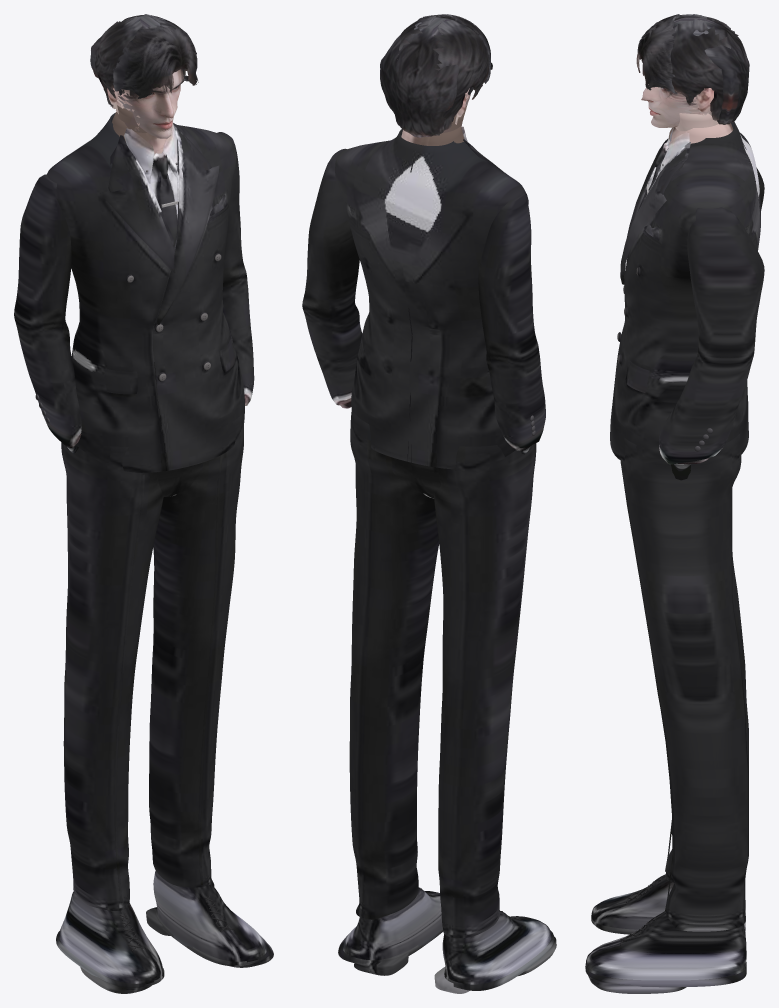
File: passer-07.glb
3 renders of one model, left to right at view 1: azimuth 30°, elevation 25°; view 2: azimuth 150°, elevation 25°; view 3: azimuth 270°, elevation 25°, orthographic.
Visible parts, largest first — view 1: 掐腰双排扣上衣, 右裤管 · 膝折与微收脚口, 左裤管 · 膝折与微收脚口, 角色右 · 两片式合体袖, 右脚 · 系带牛津鞋面, 左脚 · 系带牛津鞋面, 角色左 · 交叠戗驳领, 角色左 · 两片式合体袖, 额前与鬓发 · 原画边界体积, 角色右 · 戗驳领与下翻线, 肖像头面 · 连续眼眶唇环, 右侧鬓发至后枕 · 轮廓与耳部开口 (+10 smaller); view 2: 掐腰双排扣上衣, 右裤管 · 膝折与微收脚口, 左裤管 · 膝折与微收脚口, 角色右 · 两片式合体袖, 角色左 · 两片式合体袖, 后脑及后发 · 闭合体积, 右脚 · 系带牛津鞋面, 左脚 · 系带牛津鞋面, 右侧鬓发至后枕 · 轮廓与耳部开口, 西裤腰臀与裆桥, 右鞋 · 全长沿条, 白色细斜纹衬衣 (+1 smaller); view 3: 左裤管 · 膝折与微收脚口, 掐腰双排扣上衣, 角色左 · 两片式合体袖, 左脚 · 系带牛津鞋面, 左侧鬓发至后枕 · 轮廓与耳部开口, 后脑及后发 · 闭合体积, 右脚 · 系带牛津鞋面, 角色左 · 交叠戗驳领, 额前与鬓发 · 原画边界体积, 肖像头面 · 连续眼眶唇环, 左鞋 · 全长沿条, 右裤管 · 膝折与微收脚口 (+6 smaller).
Part boxes in pixels (left/top/right/bottom): 掐腰双排扣上衣: left=47, top=113, right=244, bottom=472; 右裤管 · 膝折与微收脚口: left=61, top=442, right=163, bottom=910; 左裤管 · 膝折与微收脚口: left=149, top=413, right=243, bottom=887; 角色右 · 两片式合体袖: left=14, top=174, right=81, bottom=447; 右脚 · 系带牛津鞋面: left=59, top=891, right=162, bottom=984; 左脚 · 系带牛津鞋面: left=153, top=871, right=267, bottom=962; 角色左 · 交叠戗驳领: left=156, top=130, right=219, bottom=324; 角色左 · 两片式合体袖: left=217, top=132, right=254, bottom=405; 额前与鬓发 · 原画边界体积: left=112, top=26, right=197, bottom=98; 角色右 · 戗驳领与下翻线: left=100, top=144, right=175, bottom=273; 肖像头面 · 连续眼眶唇环: left=118, top=69, right=183, bottom=138; 右侧鬓发至后枕 · 轮廓与耳部开口: left=95, top=16, right=142, bottom=107; 掐腰双排扣上衣: left=335, top=129, right=528, bottom=469; 右裤管 · 膝折与微收脚口: left=434, top=443, right=536, bottom=938; 左裤管 · 膝折与微收脚口: left=349, top=409, right=439, bottom=919; 角色右 · 两片式合体袖: left=478, top=192, right=545, bottom=448; 角色左 · 两片式合体袖: left=302, top=148, right=362, bottom=405; 后脑及后发 · 闭合体积: left=380, top=17, right=459, bottom=137; 右脚 · 系带牛津鞋面: left=442, top=911, right=551, bottom=984; 左脚 · 系带牛津鞋面: left=342, top=888, right=442, bottom=960; 右侧鬓发至后枕 · 轮廓与耳部开口: left=433, top=20, right=488, bottom=135; 西裤腰臀与裆桥: left=390, top=452, right=524, bottom=498; 右鞋 · 全长沿条: left=444, top=930, right=554, bottom=990; 白色细斜纹衬衣: left=401, top=126, right=464, bottom=145; 左裤管 · 膝折与微收脚口: left=621, top=434, right=748, bottom=931; 掐腰双排扣上衣: left=610, top=121, right=760, bottom=463; 角色左 · 两片式合体袖: left=659, top=207, right=764, bottom=464; 左脚 · 系带牛津鞋面: left=585, top=911, right=746, bottom=980; 左侧鬓发至后枕 · 轮廓与耳部开口: left=668, top=18, right=738, bottom=120; 后脑及后发 · 闭合体积: left=673, top=16, right=749, bottom=124; 右脚 · 系带牛津鞋面: left=591, top=874, right=745, bottom=929; 角色左 · 交叠戗驳领: left=620, top=149, right=689, bottom=284; 额前与鬓发 · 原画边界体积: left=637, top=14, right=686, bottom=96; 肖像头面 · 连续眼眶唇环: left=641, top=84, right=701, bottom=127; 左鞋 · 全长沿条: left=585, top=965, right=746, bottom=987; 右裤管 · 膝折与微收脚口: left=665, top=552, right=748, bottom=882.
Size of the model in its own units: 0.4447 by 1.78 by 0.3086.
144 materials, 136 textured.
